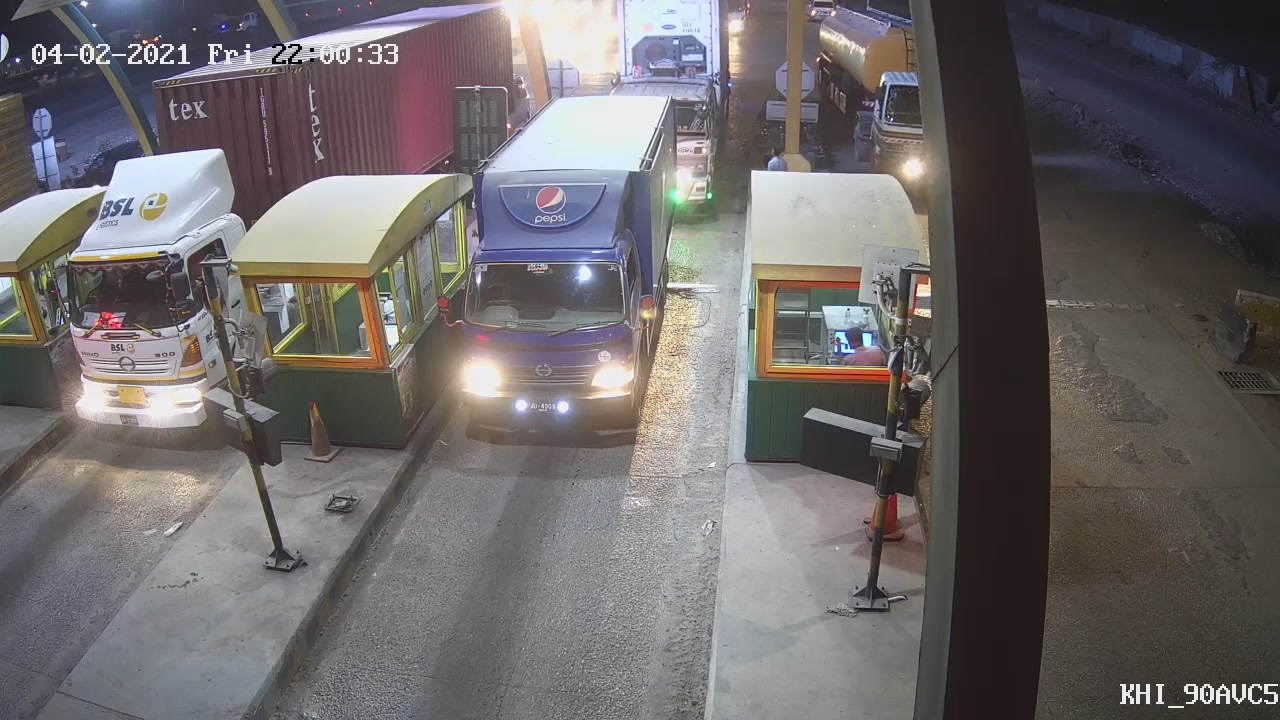F5: (448, 88, 686, 438)
